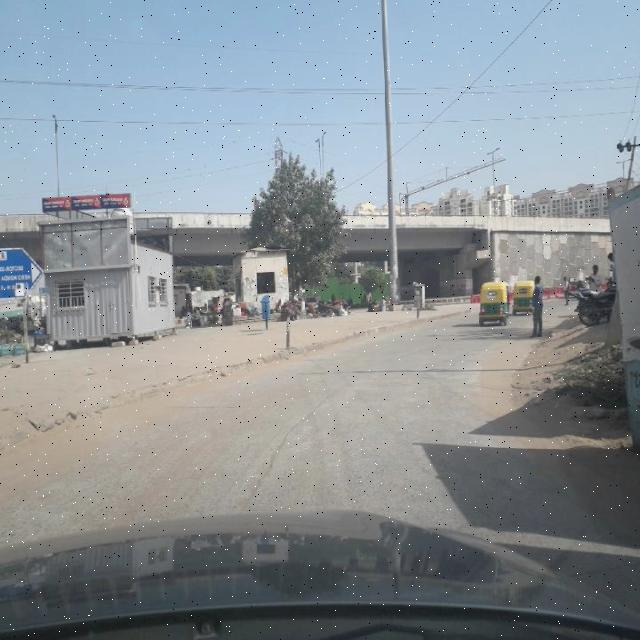D01: (232, 369, 350, 511)
